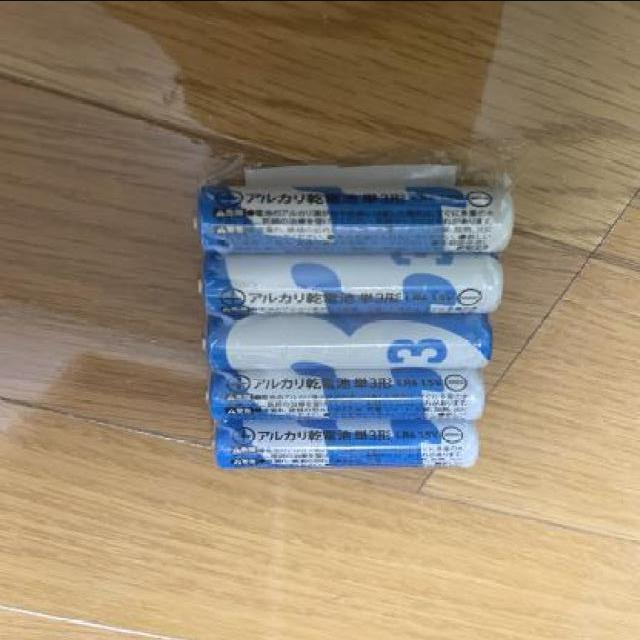AAA: (188, 172, 512, 254), (192, 308, 496, 374), (189, 250, 511, 312), (196, 363, 489, 422), (198, 417, 482, 471)
